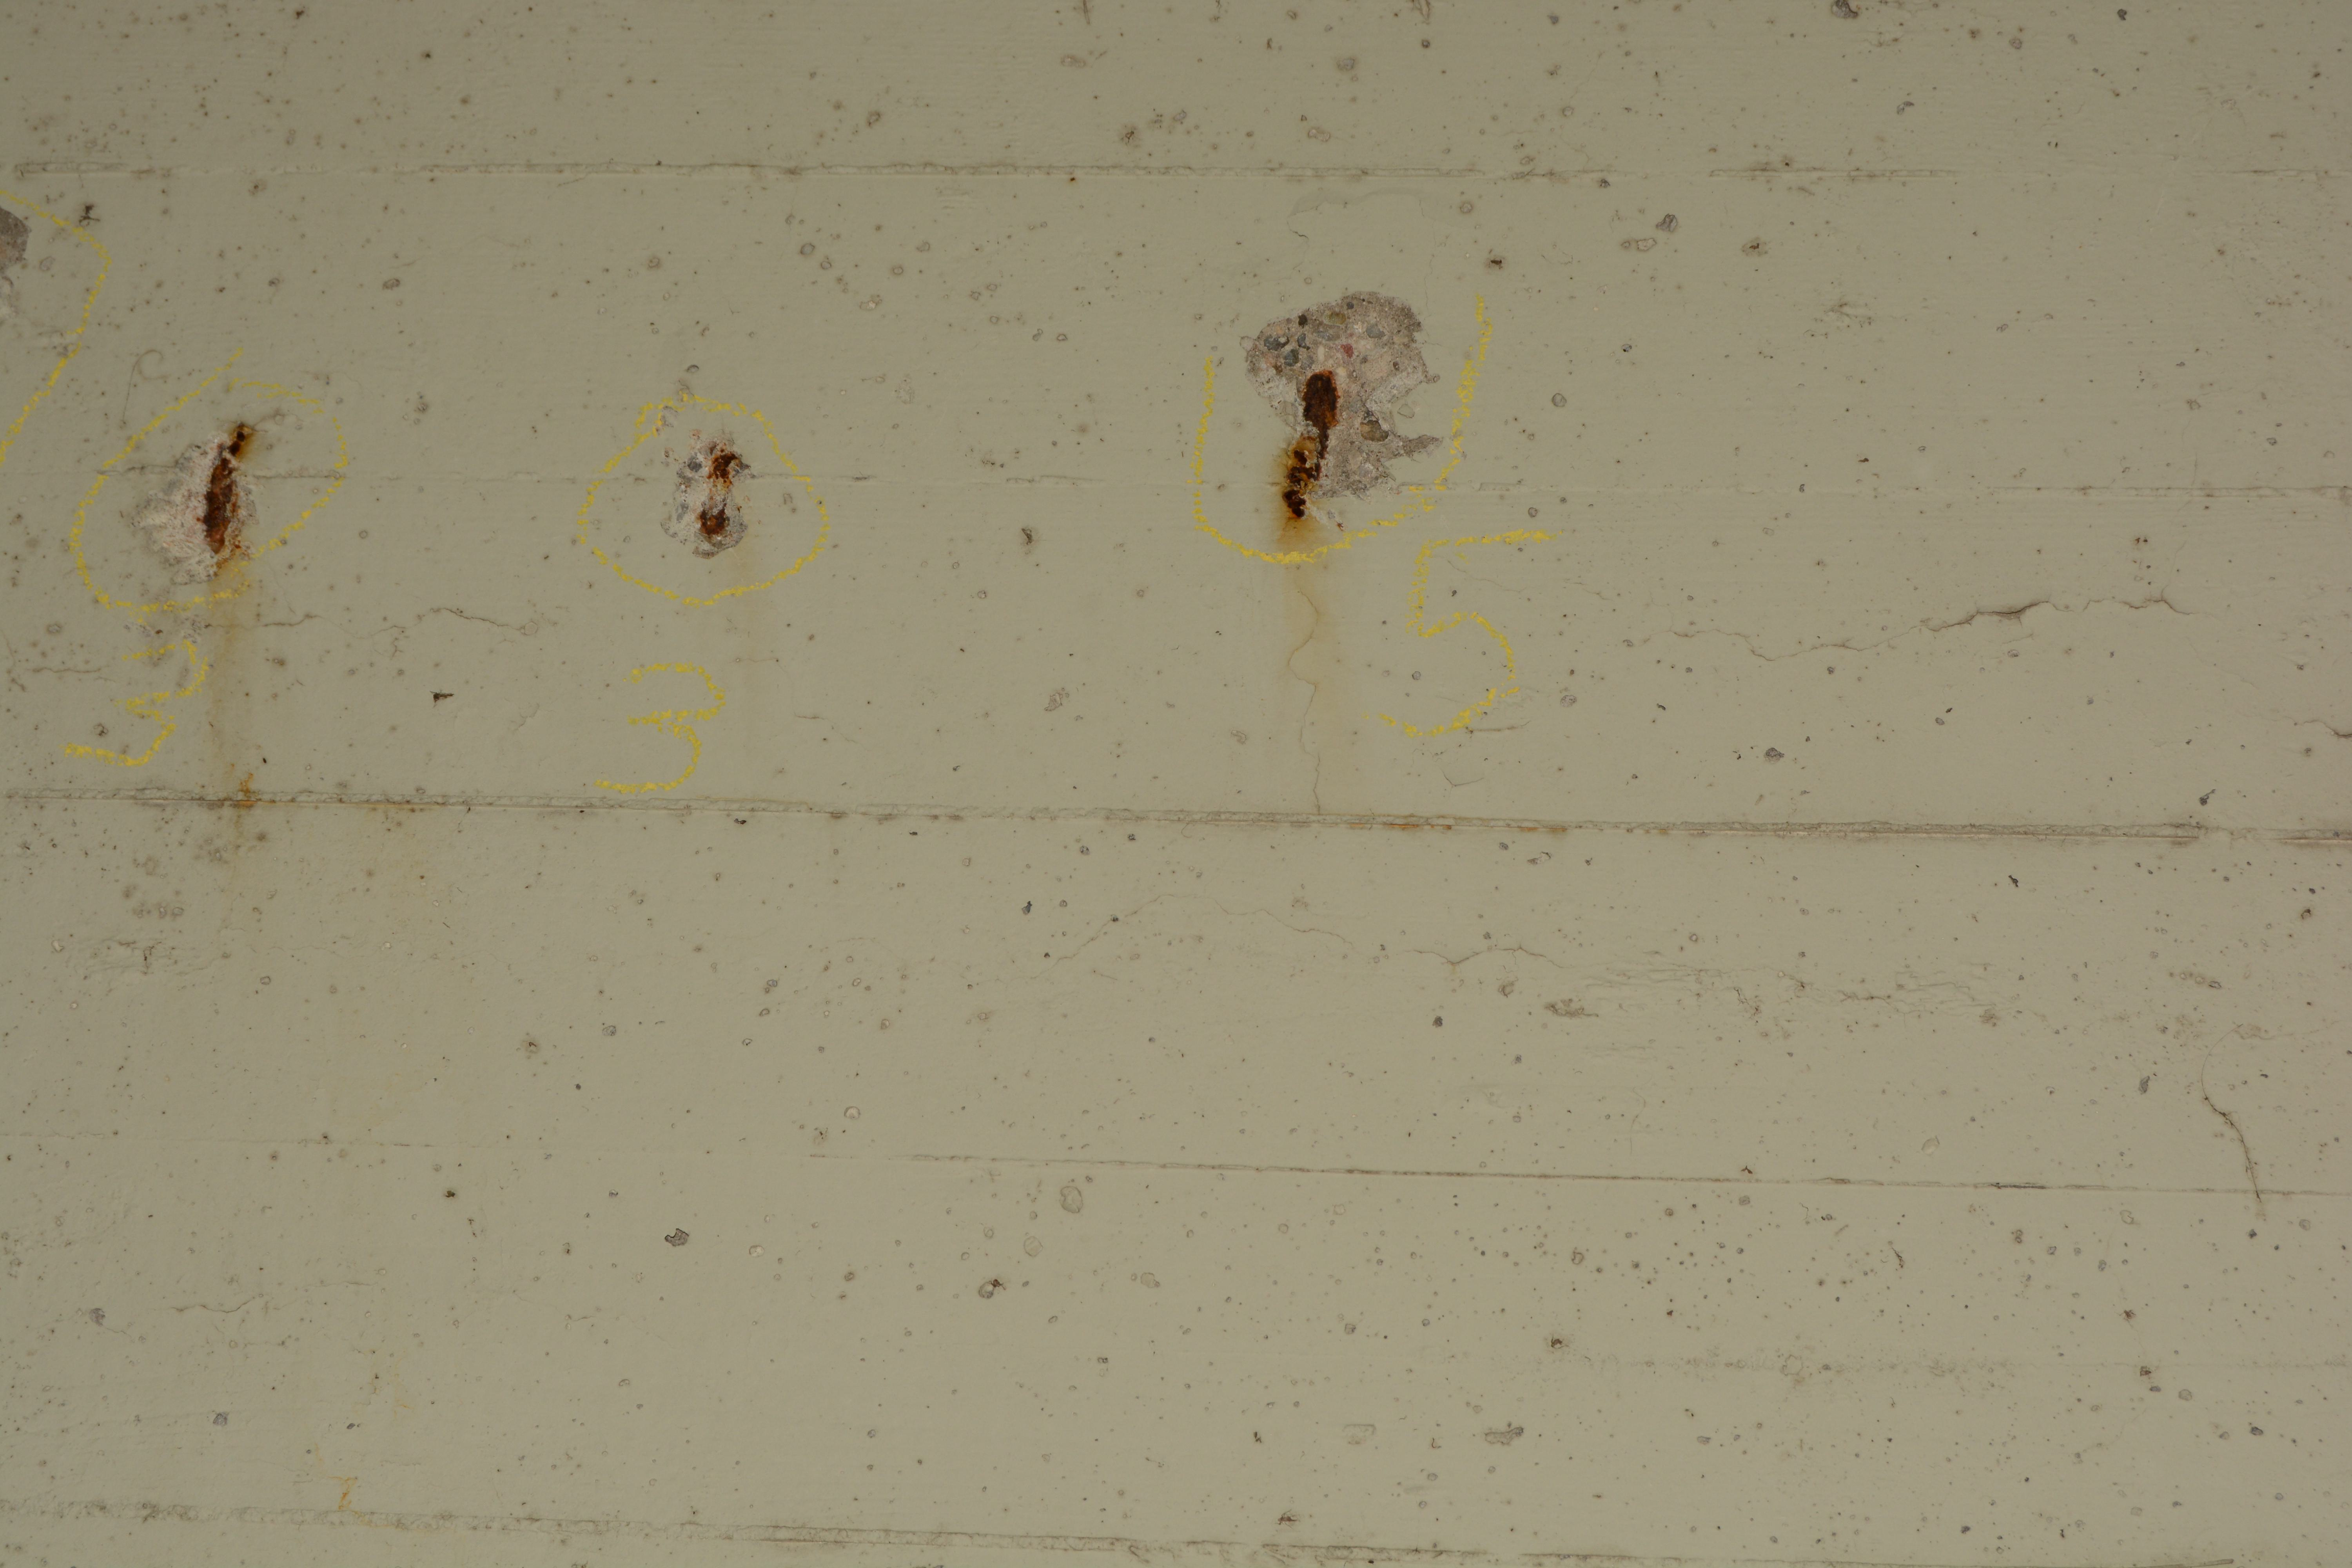Exposed reinforcement: (1279, 369, 1339, 518), (203, 432, 245, 553), (700, 451, 737, 541)
Spalling: (1244, 289, 1444, 499), (130, 422, 257, 585), (660, 438, 754, 558)
